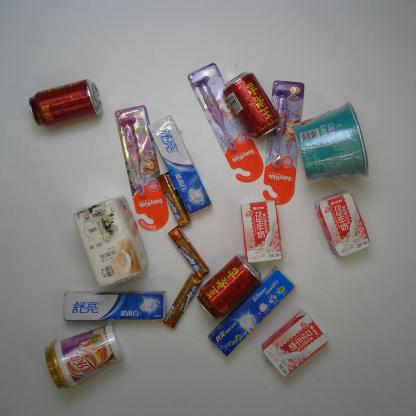Candy: (168, 226, 208, 280), (164, 274, 202, 330), (158, 171, 191, 229)
Drink: (196, 254, 263, 322), (222, 70, 280, 140), (28, 78, 101, 127)
Instant Drink: (43, 325, 124, 389)
Instant Noodles: (292, 102, 369, 183)
Milk: (261, 308, 328, 378), (315, 192, 371, 258), (240, 200, 282, 265)
Personal Hygiene: (185, 62, 263, 184), (209, 266, 296, 356), (110, 104, 170, 231), (148, 114, 211, 214), (262, 77, 305, 206), (62, 288, 164, 322)
Tissue: (73, 198, 146, 291)
